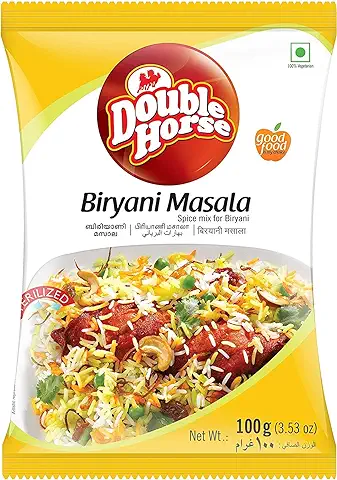Biryani: (1, 2, 337, 480)
